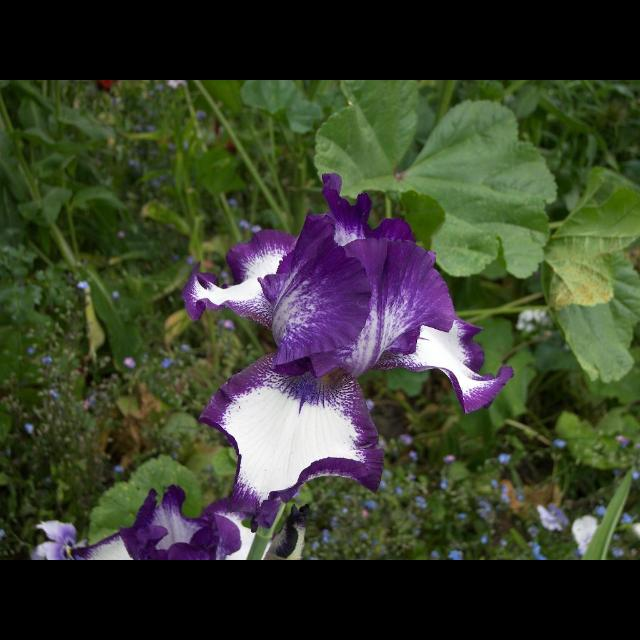Flower: (188, 177, 504, 498), (32, 483, 312, 559), (570, 515, 596, 557), (537, 506, 563, 530)
